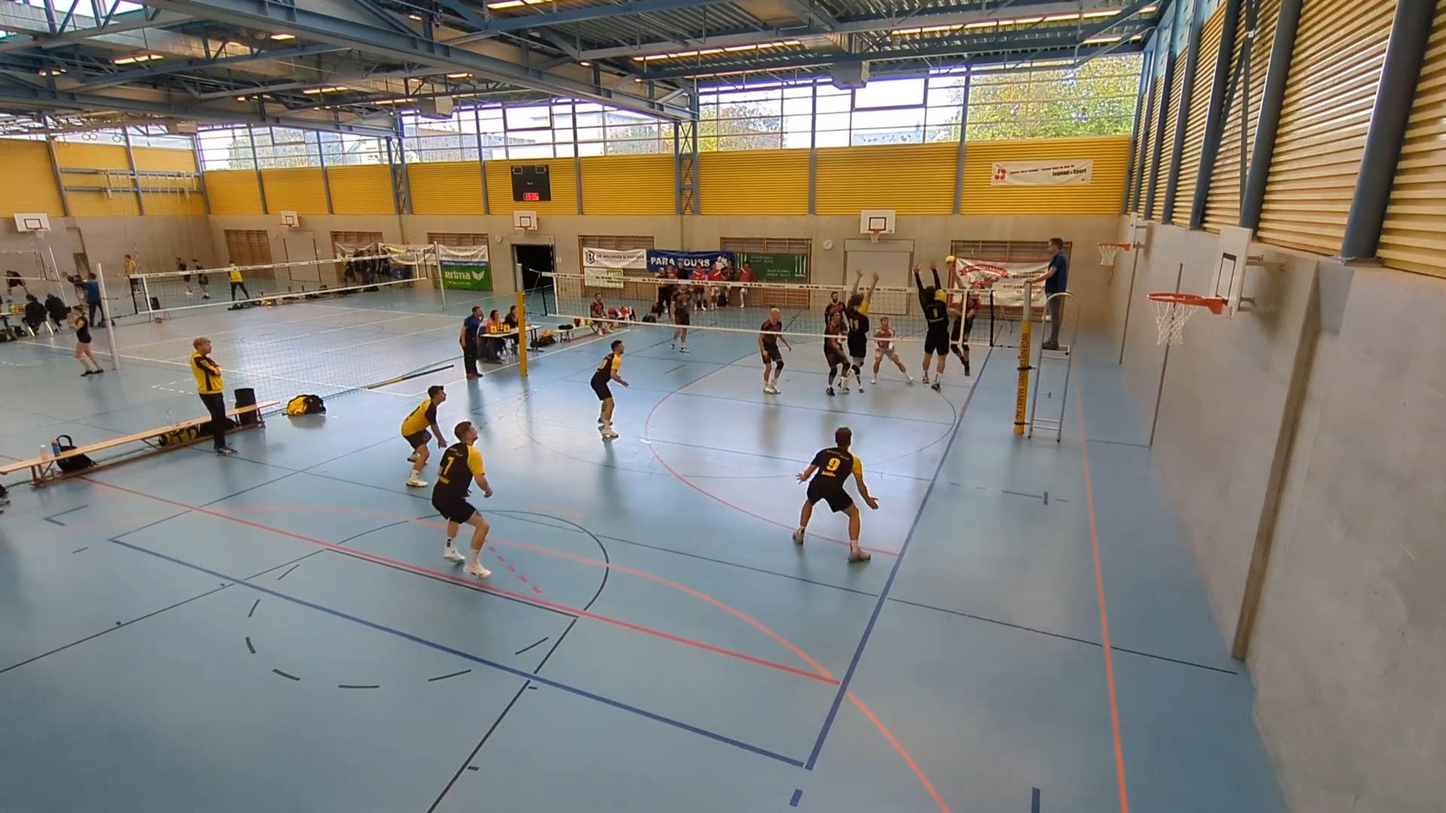Attack: (953, 258, 982, 388)
Block: (910, 261, 947, 396), (846, 267, 880, 390)
Player: (792, 427, 877, 562), (432, 422, 492, 577), (400, 385, 446, 487), (590, 340, 627, 439), (871, 316, 914, 384), (758, 309, 791, 394), (823, 311, 848, 395), (670, 285, 692, 352)
ball: (944, 257, 963, 266)
